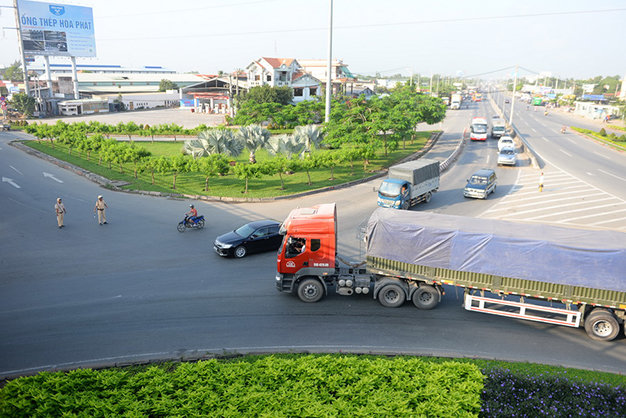police: (90, 193, 112, 229)
